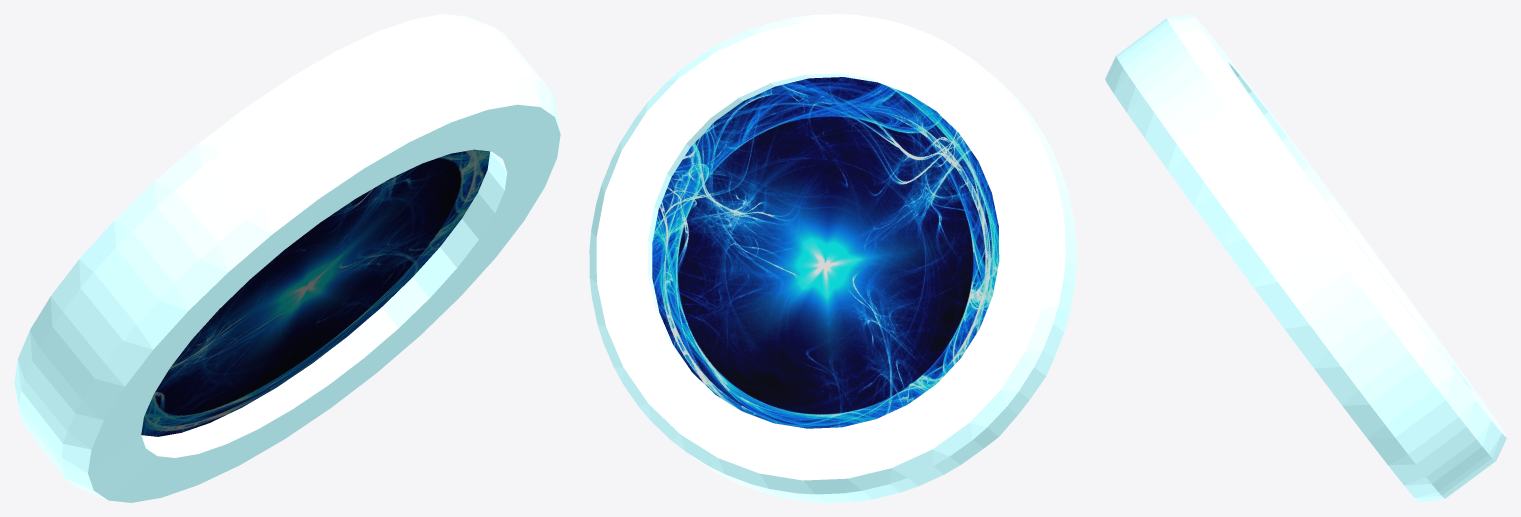
Rendered from ExportedBlenderFBXFile.fbx.
3 renders of one model, left to right at view 1: azimuth 30°, elevation 25°; view 2: azimuth 150°, elevation 25°; view 3: azimuth 270°, elevation 25°, orthographic. The views are drawn at different scales.
Parts seen in each view (by area): view 1: Cylinder; view 2: Cylinder; view 3: Cylinder.
Part boxes in pixels (<box>): Cylinder: <box>14,14,560,502</box>; Cylinder: <box>589,14,1076,502</box>; Cylinder: <box>1105,14,1506,502</box>.
Bounding box in the file's own units: 1.94 × 1.77 × 1.42.
